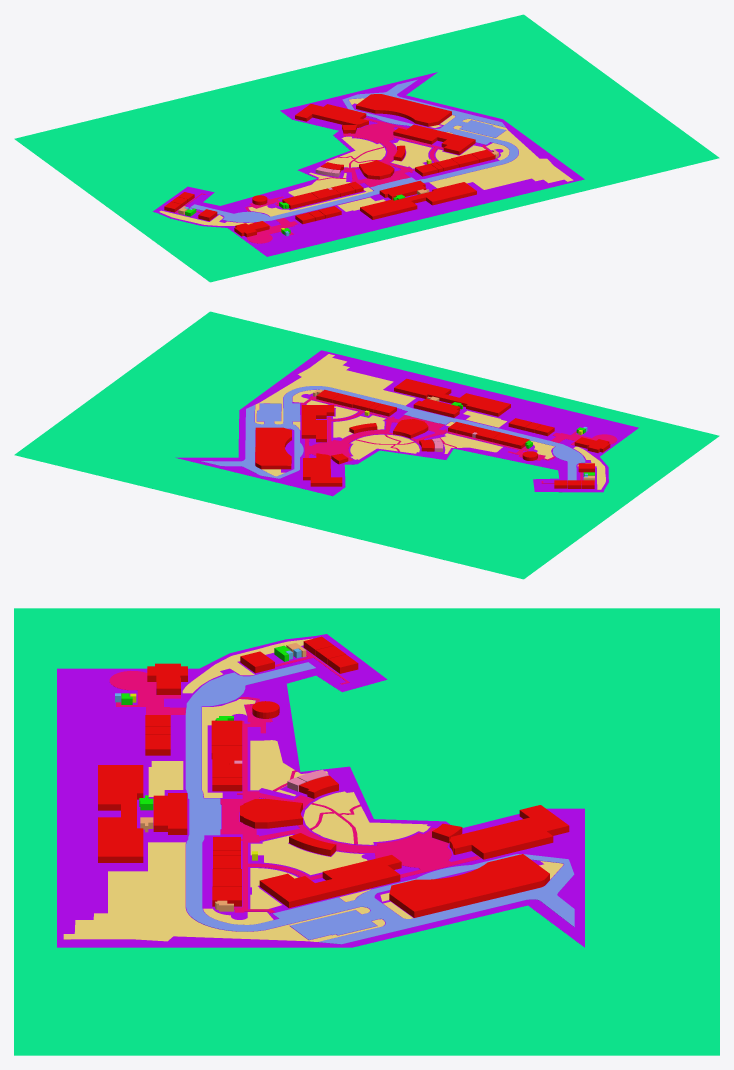
Rendered from njc-l1.glb.
The picture shows the model from 3 angles, top to bottom: view 1: azimuth 30°, elevation 25°; view 2: azimuth 150°, elevation 25°; view 3: azimuth 270°, elevation 25°; orthographic projection. The views are drawn at different scales.
Parts seen in each view (by area): view 1: Grey, Base, Grass, Drive, Foot, Object.025, Object.026, Object.016, Object.017, Object.023, Object; view 2: Grey, Base, Grass, Drive, Foot, Object.026, Object.025, Object.016, Object.017, Object, Object.023; view 3: Grey, Base, Grass, Drive, Foot, Object.025, Object.026, Object.016, Object.017, Object.023, Object, Object.004 (+1 smaller).
Boxes of the visible parts, x1,y1,x2,y2 form: Grey: (14, 14, 719, 282); Base: (153, 72, 584, 256); Grass: (159, 98, 573, 225); Drive: (190, 79, 518, 222); Foot: (175, 118, 492, 243); Object.025: (356, 94, 451, 126); Object.026: (360, 182, 476, 219); Object.016: (393, 124, 475, 154); Object.017: (295, 104, 368, 127); Object.023: (359, 160, 394, 179); Object: (379, 180, 426, 199); Grey: (14, 311, 719, 579); Base: (175, 350, 638, 496); Grass: (255, 354, 605, 489); Drive: (200, 386, 585, 480); Foot: (301, 396, 617, 483); Object.026: (394, 378, 510, 416); Object.025: (255, 427, 291, 469); Object.016: (301, 405, 334, 442); Object.017: (303, 453, 342, 486); Object: (413, 398, 460, 417); Object.023: (393, 419, 428, 438); Grey: (14, 608, 719, 1055); Base: (57, 634, 584, 947); Grass: (63, 638, 563, 941); Drive: (185, 662, 574, 944); Foot: (109, 650, 480, 913); Object.025: (389, 854, 549, 917); Object.026: (98, 765, 143, 862); Object.016: (259, 855, 401, 908); Object.017: (449, 805, 569, 859); Object.023: (240, 799, 302, 828); Object: (153, 793, 187, 834); Object.004: (147, 663, 187, 694).
Size of the model in its own units: 30 by 0.2 by 20.
